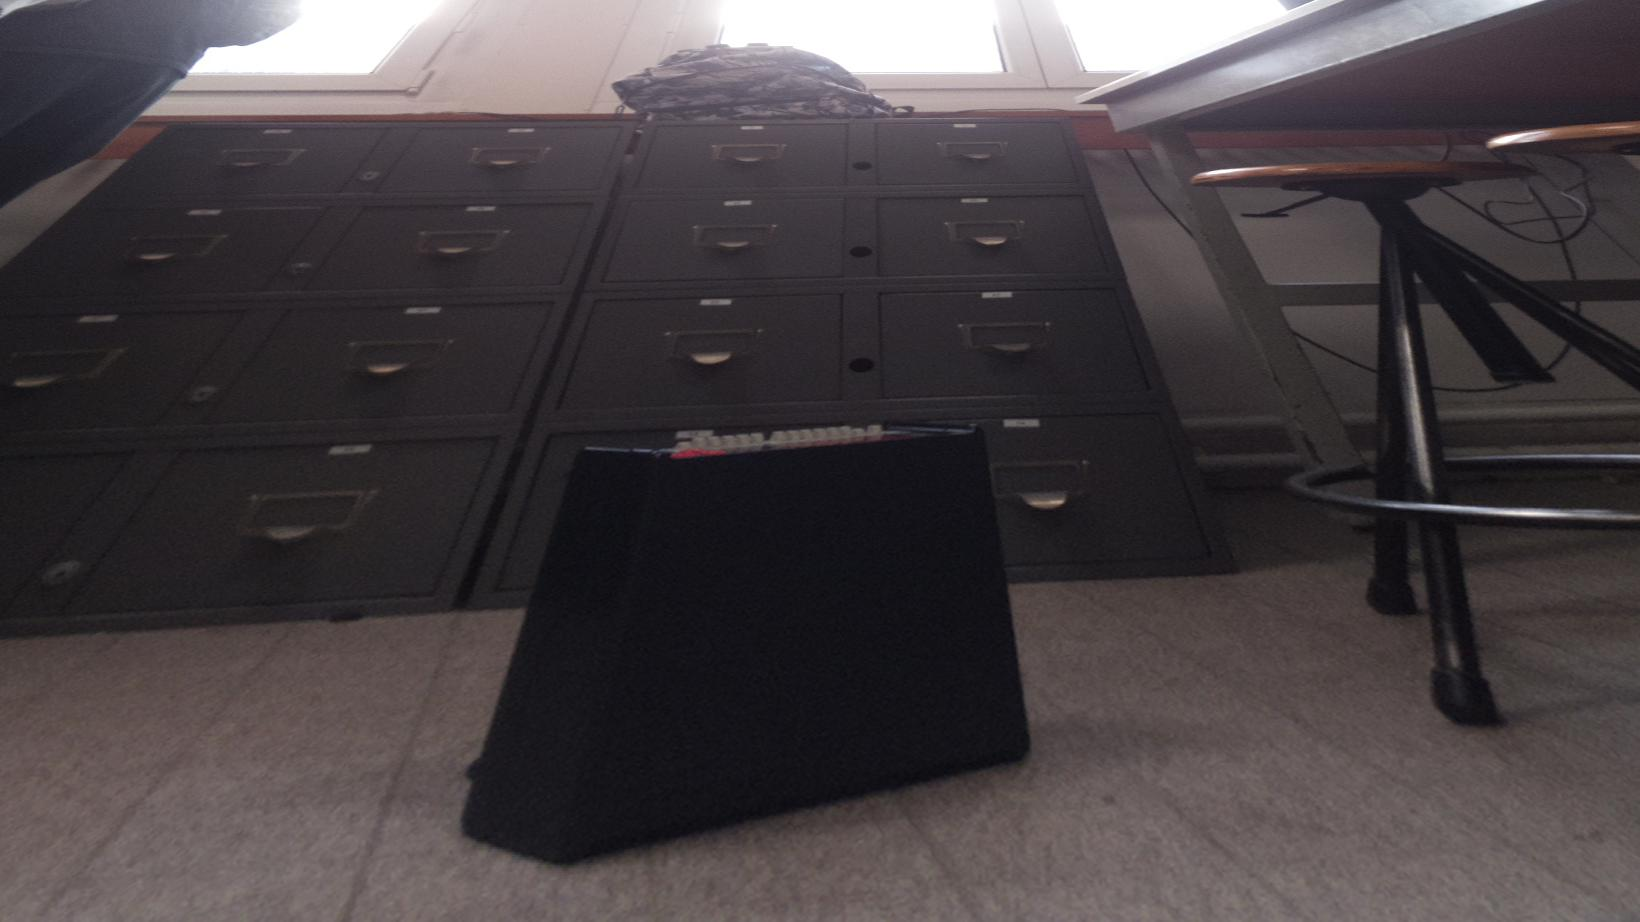big: (609, 38, 921, 123)
medium: (460, 418, 1043, 872)
